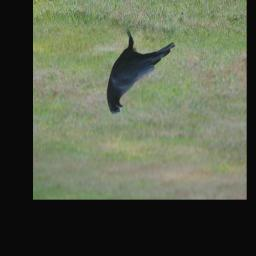Crow: (107, 28, 176, 117)
